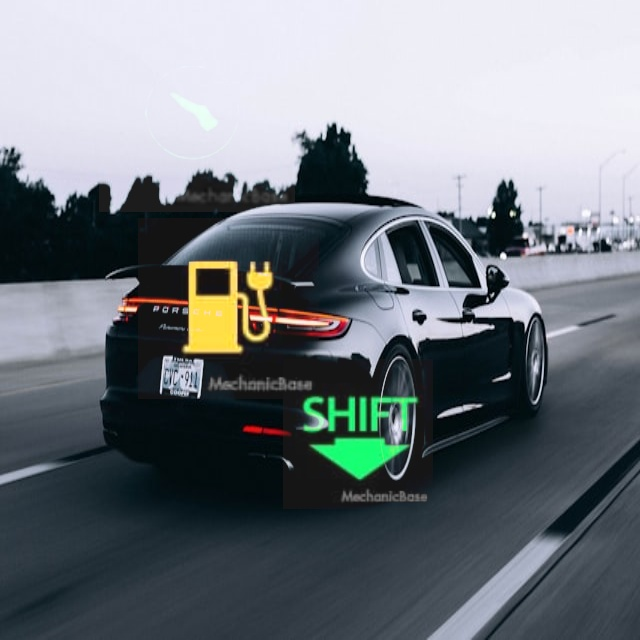symbol: (99, 16, 295, 212), (138, 218, 319, 399), (283, 359, 433, 509)
